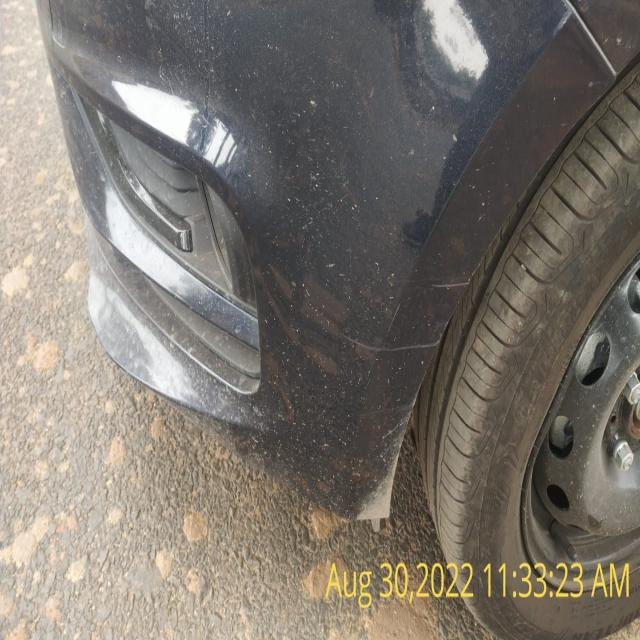damage: (325, 296, 440, 378), (422, 265, 467, 303)
